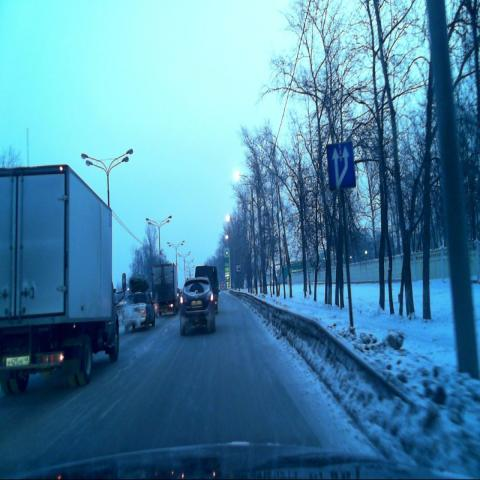5_15_3: (327, 142, 356, 189)
